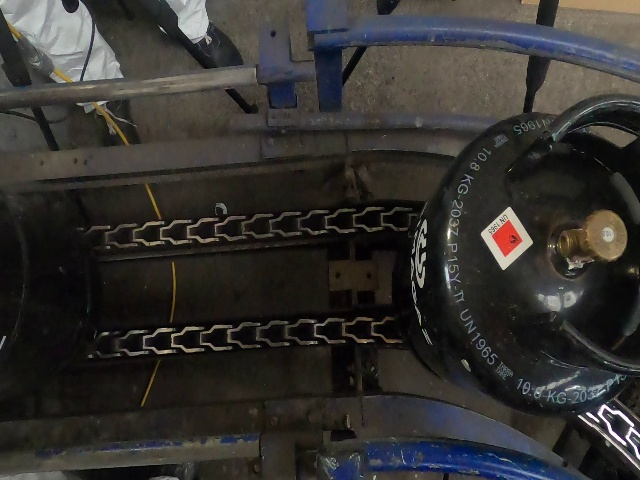gas_bottle: (0, 5, 636, 473)
